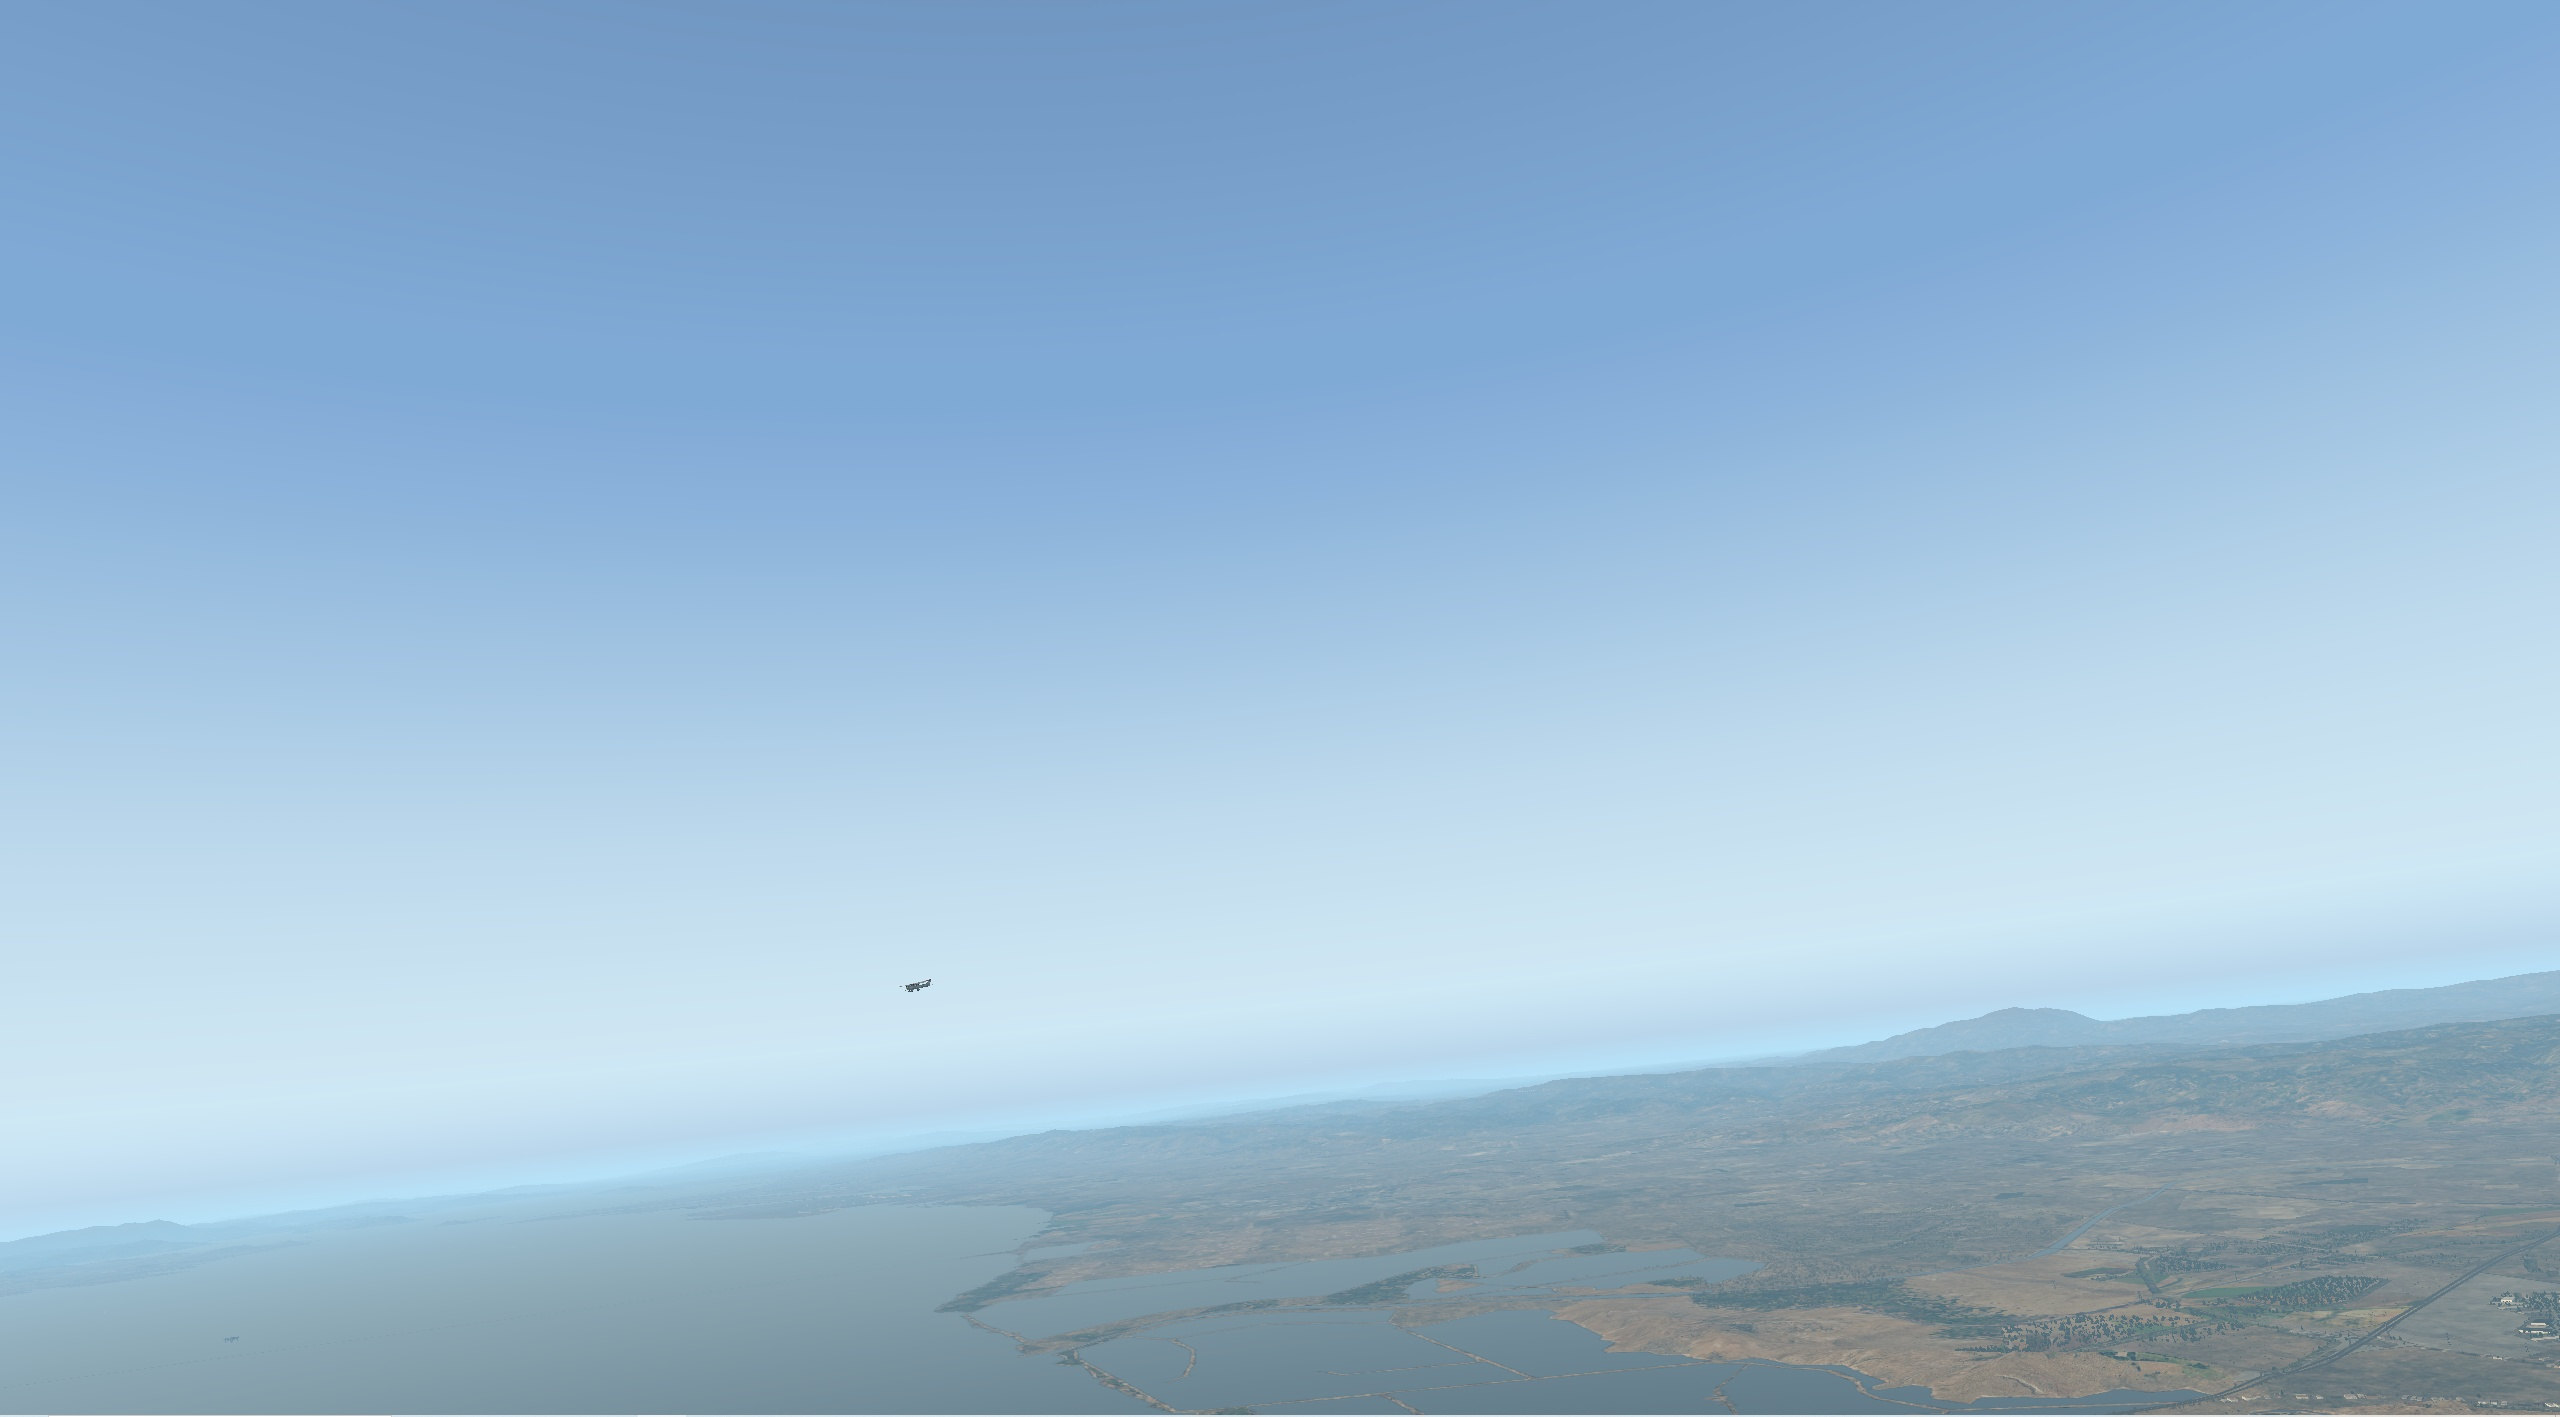aircraft: (888, 977, 939, 996)
